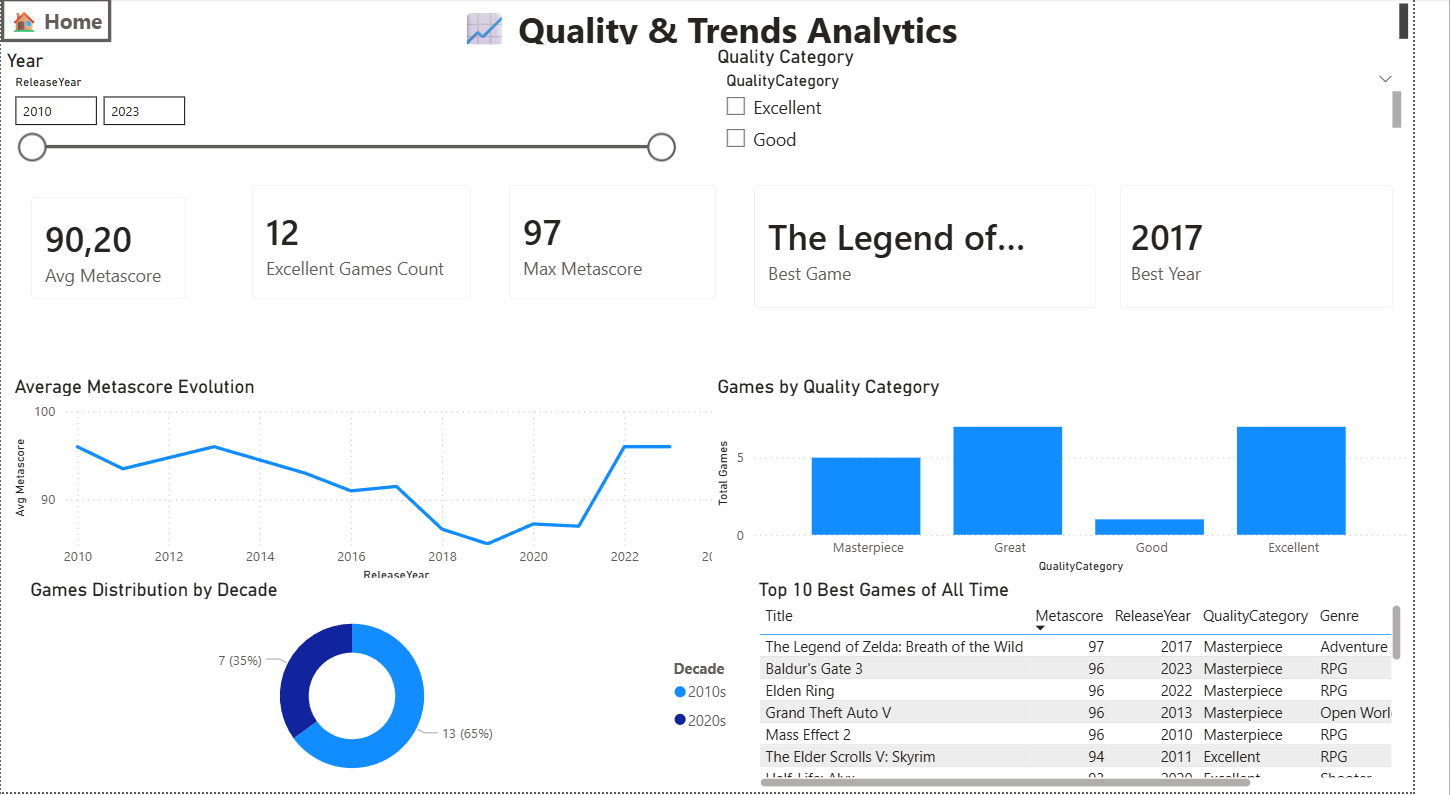

Layout of this report page (visuals, bound fields, positions):
{"tool":"powerbi","page":{"name":"Quality & Trends","canvas":[1280,720],"ordinal":4},"visuals":[{"type":"textbox","box":[9.6,0,1270.7,46.7],"z":0},{"type":"cardVisual","fields":{"Data":["_Measures.Avg Metascore"]},"box":[9.6,163.3,175.6,127.6],"z":1000},{"type":"cardVisual","fields":{"Data":["_Measures.Excellent Games Count"]},"box":[209.9,152.3,233.3,138.6],"z":2000},{"type":"cardVisual","fields":{"Data":["_Measures.Max Metascore"]},"box":[443.2,152.3,222.3,138.6],"z":3000},{"type":"cardVisual","fields":{"Data":["_Measures.Best Game"]},"box":[665.5,152.3,344.4,146.8],"z":4000},{"type":"cardVisual","fields":{"Data":["_Measures.Best Year"]},"box":[997.6,152.3,282.7,146.8],"z":5000},{"type":"lineChart","title":"Average Metascore Evolution","fields":{"Category":["Games.ReleaseYear"],"Y":["_Measures.Avg Metascore"]},"box":[6.9,341.7,658.7,192.1],"z":6000},{"type":"clusteredColumnChart","title":"Games by Quality Category","fields":{"Category":["Games.QualityCategory"],"Y":["_Measures.Total Games"]},"box":[644.9,341.7,635.3,183.9],"z":7000},{"type":"donutChart","title":"Games Distribution by Decade","fields":{"Category":["Games.Decade"],"Y":["_Measures.Total Games"]},"box":[22,525.6,660,194.9],"z":8000},{"type":"tableEx","title":"Top 10 Best Games of All Time","fields":{"Values":["Games.Title","Sum(Games.Metascore)","Sum(Games.ReleaseYear)","Games.QualityCategory","Genres.Name","Developers.Name"]},"box":[682,525.6,592.8,194.9],"z":9000},{"type":"slicer","title":"Year","fields":{"Values":["Games.ReleaseYear"]},"box":[0,46.7,620.2,116.6],"z":10000},{"type":"slicer","title":"Quality Category","fields":{"Values":["Games.QualityCategory"]},"box":[644.9,42.5,629.8,109.8],"z":11000},{"type":"actionButton","box":[0,0,100,40],"z":11001}]}

Visuals, with their boxes in screenshot pixels (x1, y1, x2, y2), scaled from the page's 1280x720 canvas onto the 1450x795 screenshot:
textbox: (11, 0, 1449, 52)
cardVisual - _Measures.Avg Metascore: (11, 180, 210, 321)
cardVisual - _Measures.Excellent Games Count: (238, 168, 502, 321)
cardVisual - _Measures.Max Metascore: (502, 168, 754, 321)
cardVisual - _Measures.Best Game: (754, 168, 1144, 330)
cardVisual - _Measures.Best Year: (1130, 168, 1449, 330)
"Average Metascore Evolution" lineChart: (8, 377, 754, 589)
"Games by Quality Category" clusteredColumnChart: (731, 377, 1449, 580)
"Games Distribution by Decade" donutChart: (25, 580, 773, 794)
"Top 10 Best Games of All Time" tableEx: (773, 580, 1444, 794)
"Year" slicer: (0, 52, 703, 180)
"Quality Category" slicer: (731, 47, 1444, 168)
actionButton: (0, 0, 113, 44)
